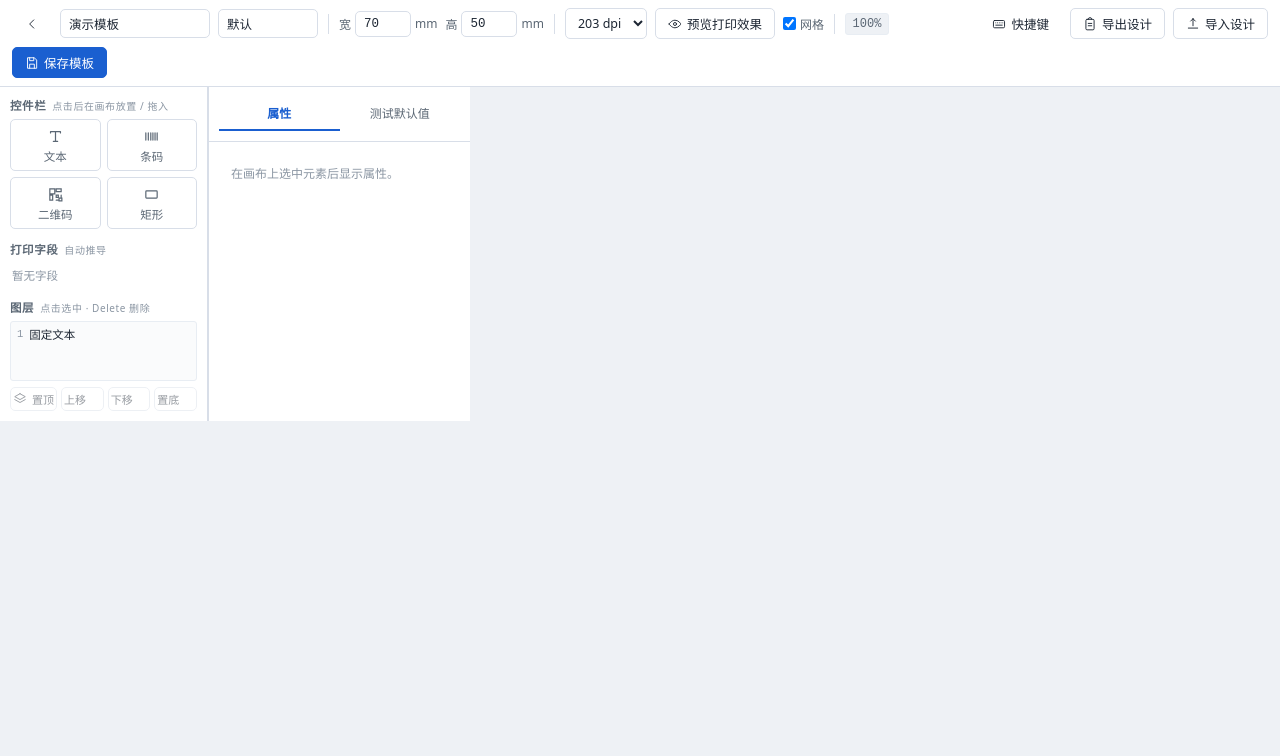
「看实时效果」演示（AC-05） › 点演示：面板与画布收到注入值（来源转字段填充、示例字段名 / 预览值），演示态提示出现
The width and height of the screenshot is (1280, 756).
What coordinates should you click on to do the following:
click the text "固定文本"
I would click on:
 (52, 334)
Its box is [29,326,75,342].
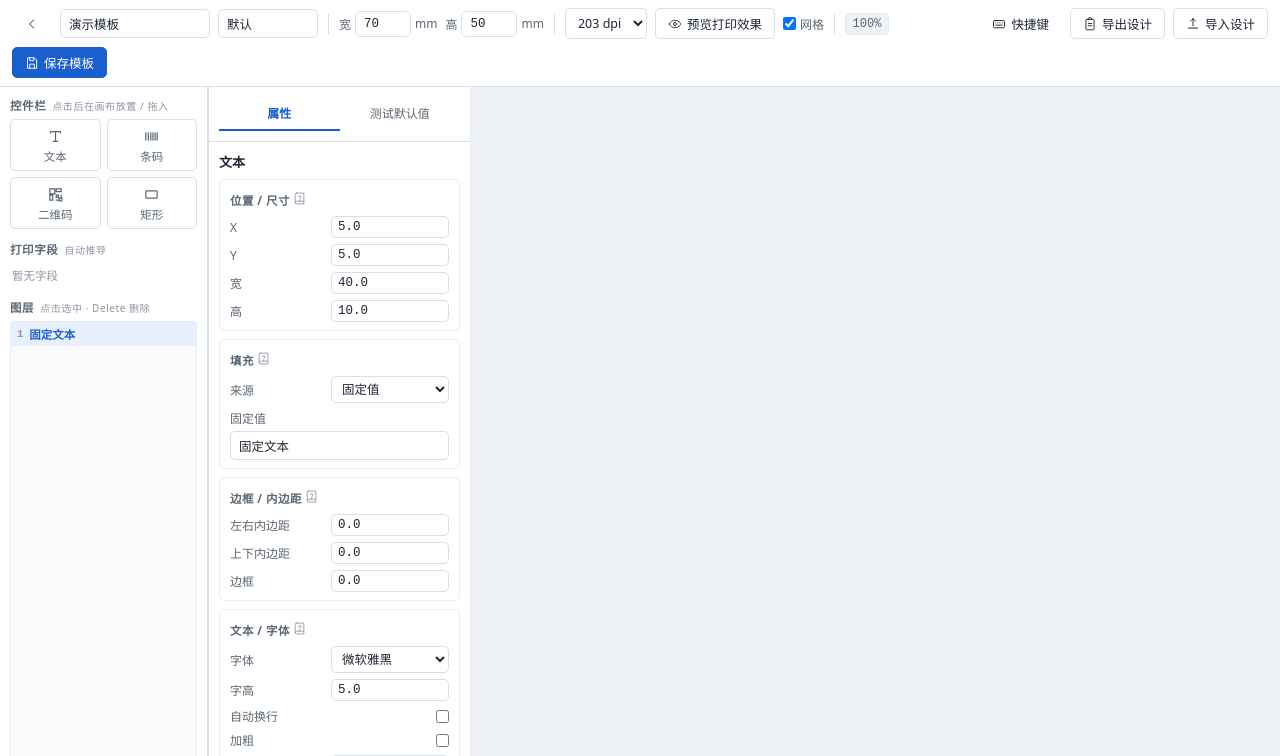
What coordinates should you click on to do the following:
click the button named "查看说明" next to "填充"
I would click on:
 (264, 358)
Its box is [254,348,274,368].
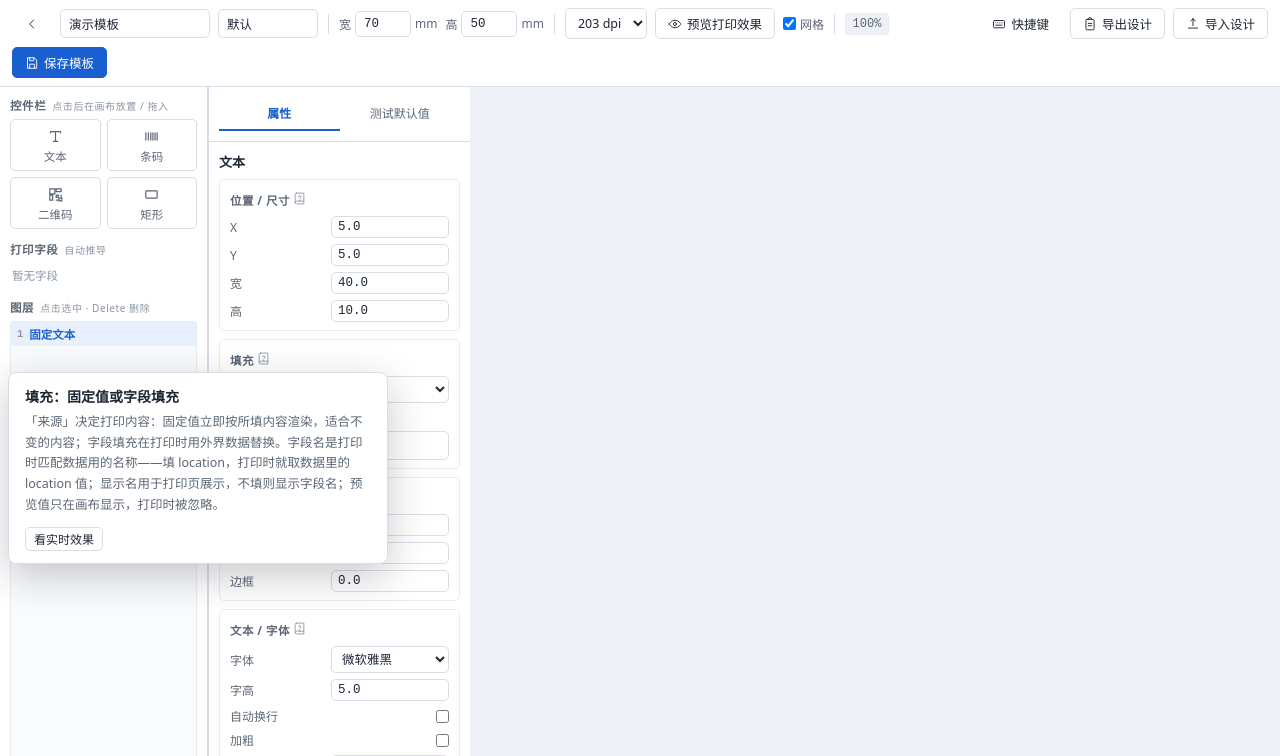
Result: the dialog is shown at [8,372,388,564]
What coordinates should you click on to do the following:
click the button "看实时效果"
I would click on:
 (64, 539)
Its box is [25,527,103,551].
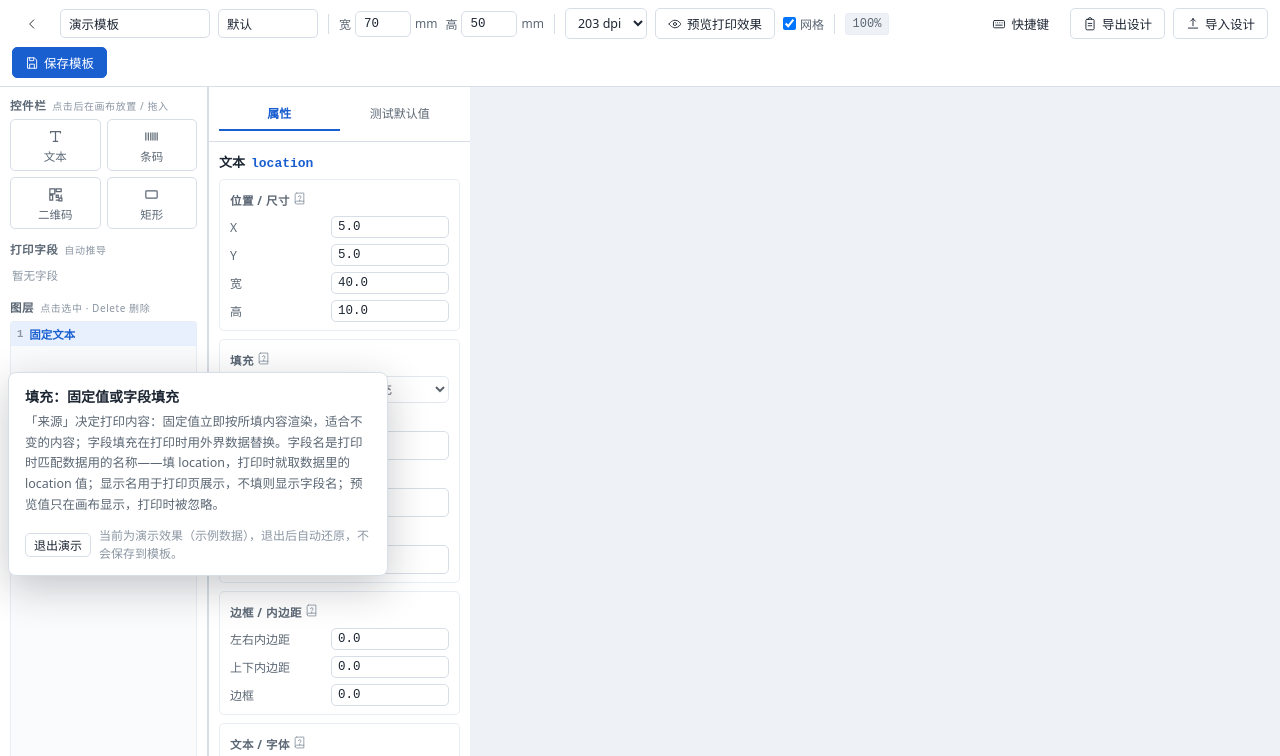
Result: the text "location" is shown at [251,156,313,171]
Result: the field labelled "预览值" holds "A-01-02" at [230,545,449,574]
Result: the field labelled "预览值" is disabled at [230,545,449,574]
